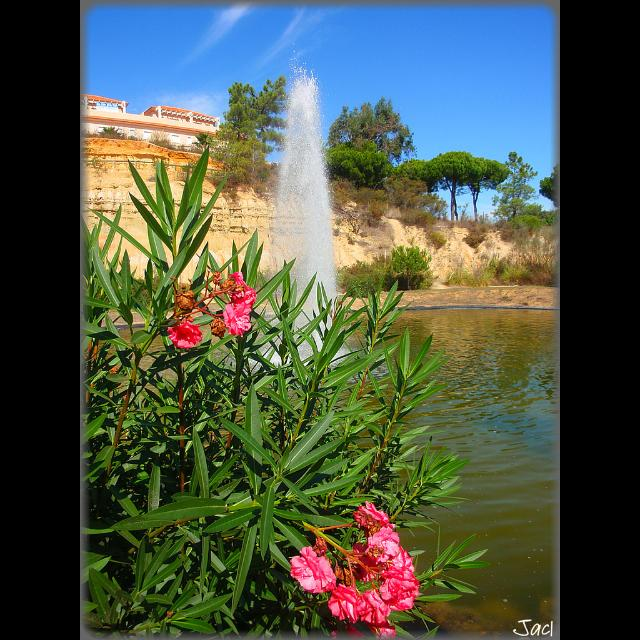Flower: (326, 500, 422, 640), (164, 270, 256, 350), (291, 542, 349, 606)
